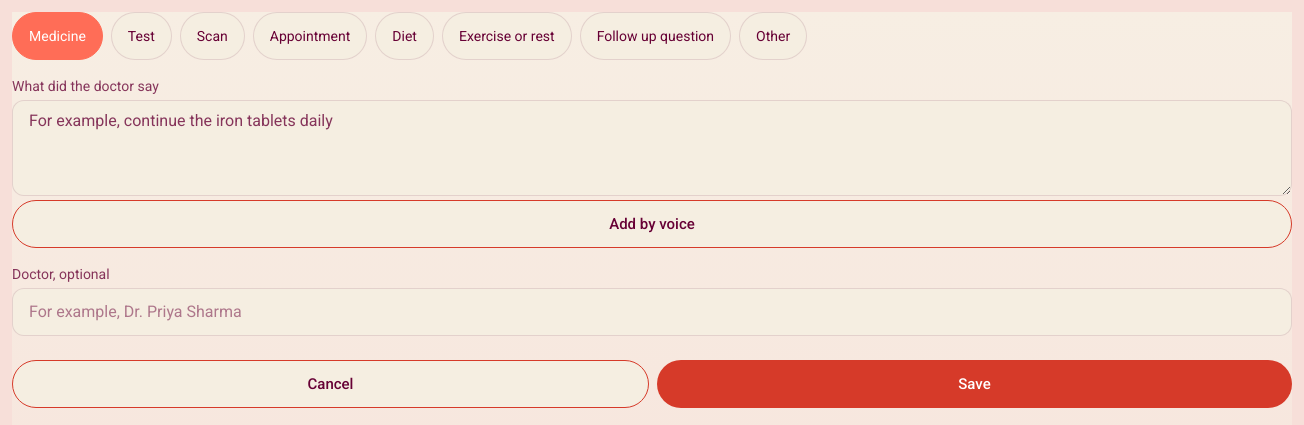
Scenario: AdviceForm -- voice input › shows the voice control only when transcription is available, and fills the draft on a final result
Click the button "Add by voice" at (652, 224), box [12,200,1292,248]
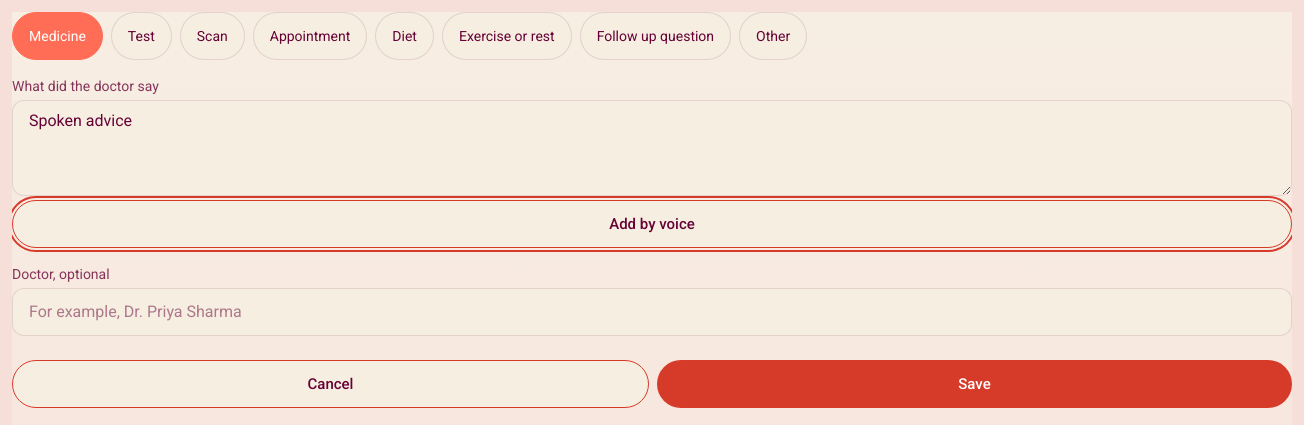
Result: the text box labelled "What did the doctor say" holds "Spoken advice" at [12,100,1292,196]
